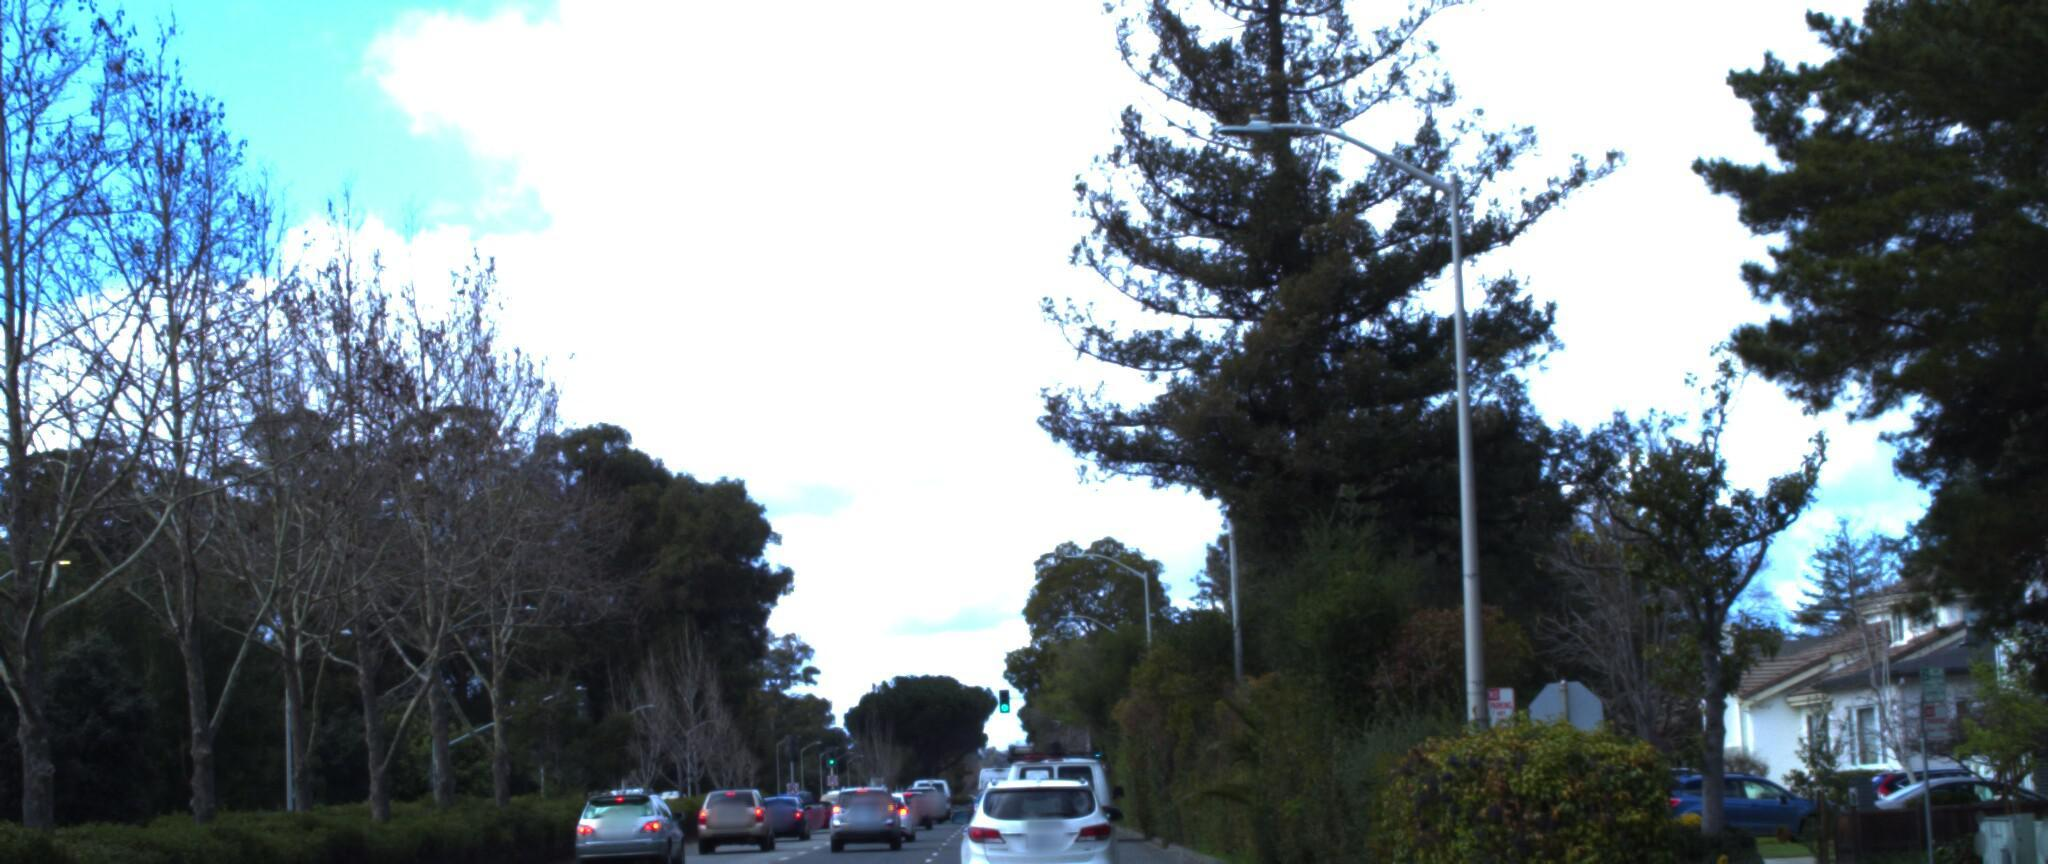car: (950, 747, 1126, 864), (1643, 744, 1874, 831), (1003, 713, 1142, 856), (575, 762, 699, 861), (831, 758, 917, 833), (697, 764, 786, 835)
